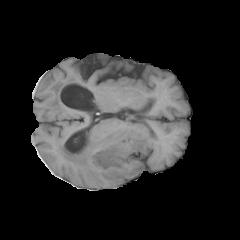glioma: (57, 119, 158, 178)
